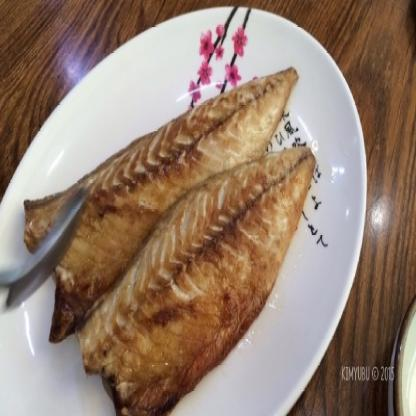Peixe: (24, 53, 338, 416)
